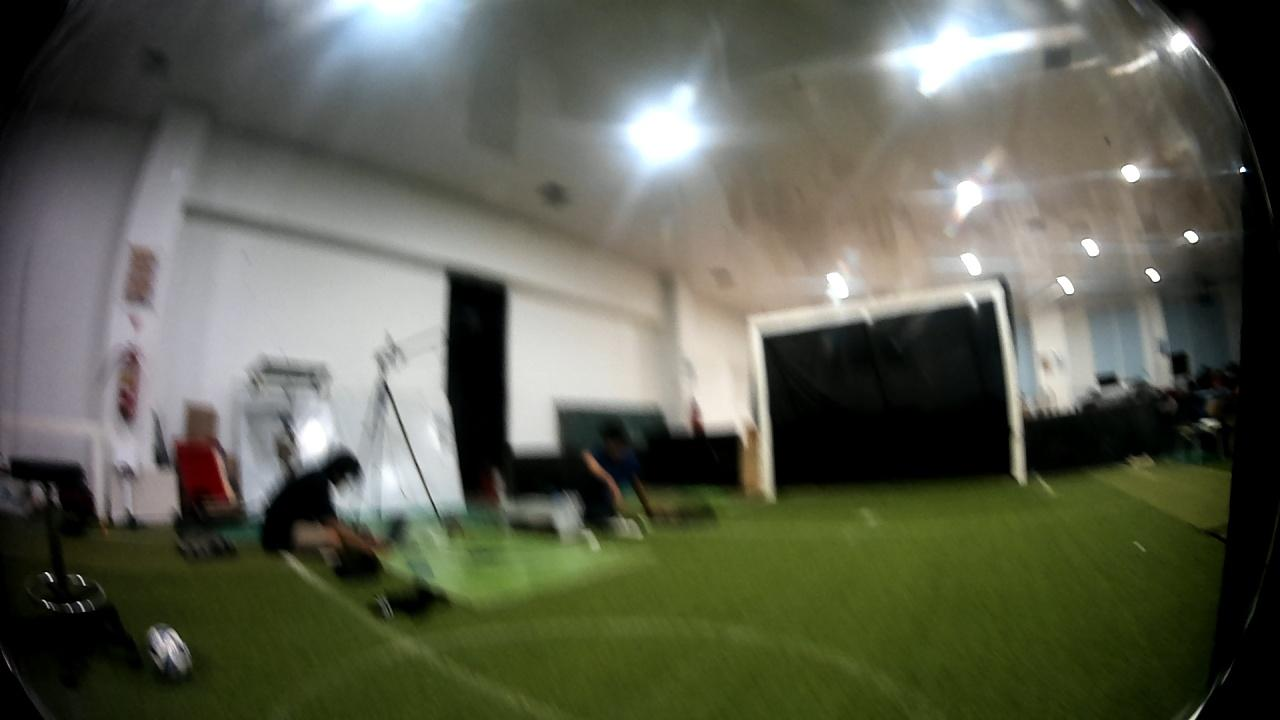ball: (136, 617, 200, 691)
